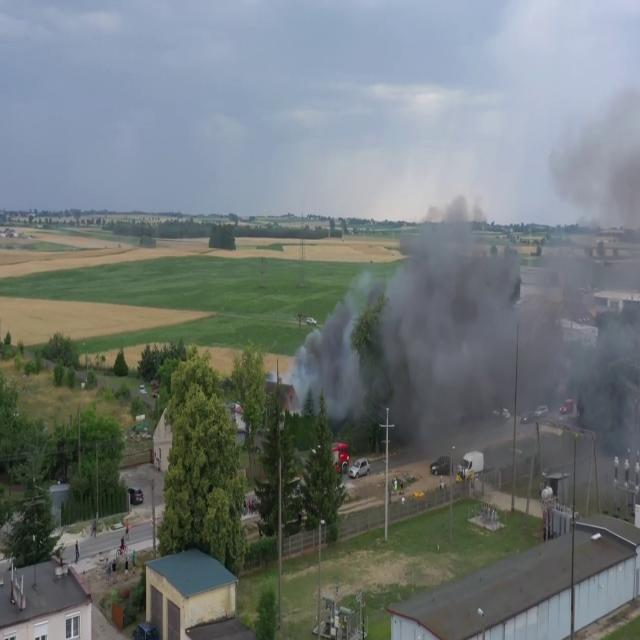Smoke: (296, 73, 640, 464)
